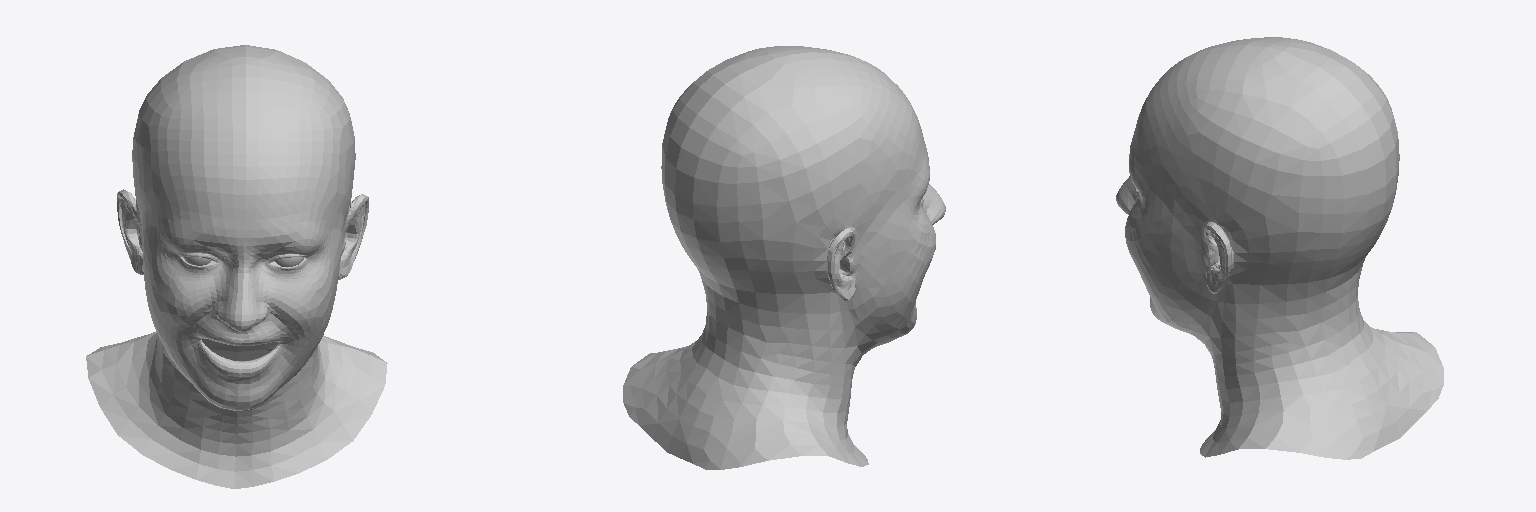
File: 00032_w_HIFI3D_UV.obj
3 renders of one model, left to right at view 1: azimuth 30°, elevation 25°; view 2: azimuth 150°, elevation 25°; view 3: azimuth 270°, elevation 25°, orthographic.
Size of the model in its own units: 0.2132 by 0.3214 by 0.238.